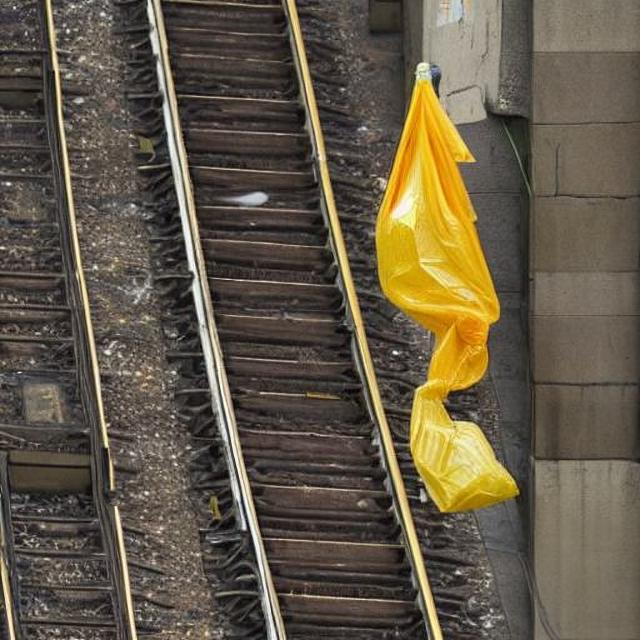plastic bag: (368, 65, 514, 508)
